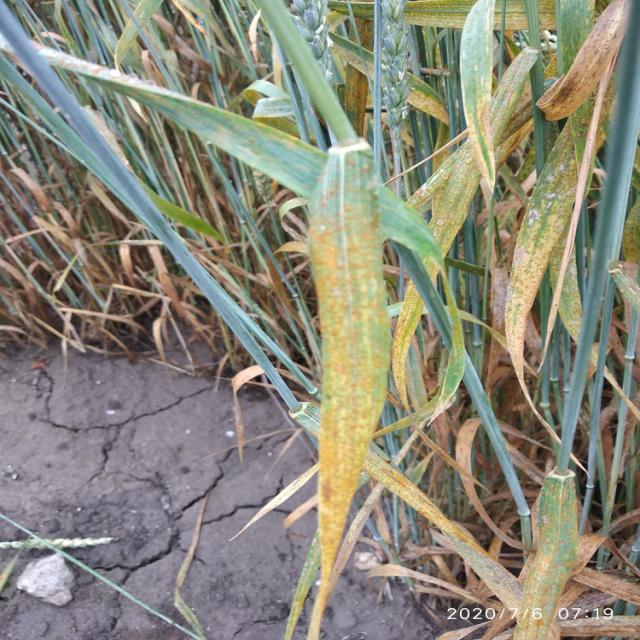wheat-septoria: (288, 138, 394, 640), (505, 112, 588, 387), (502, 462, 582, 640), (536, 0, 634, 132), (460, 0, 508, 181), (491, 44, 539, 148), (433, 154, 481, 258), (391, 283, 424, 410)
